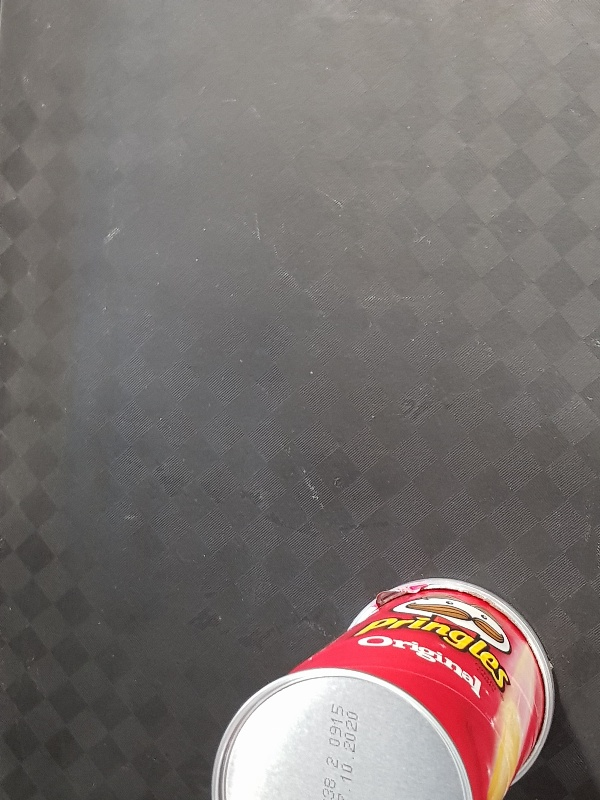Pringles Original: (211, 574, 557, 800)
